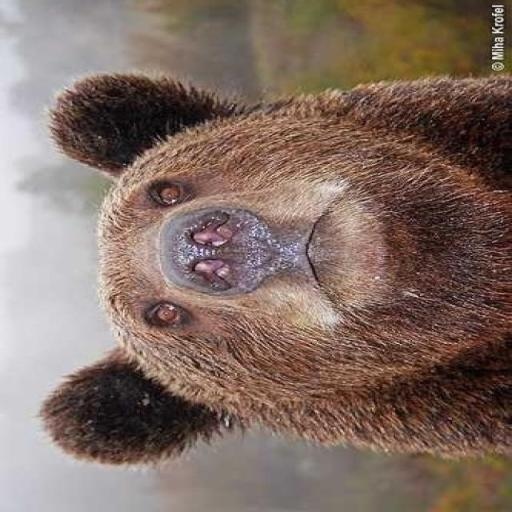Bear: (37, 68, 510, 467)
